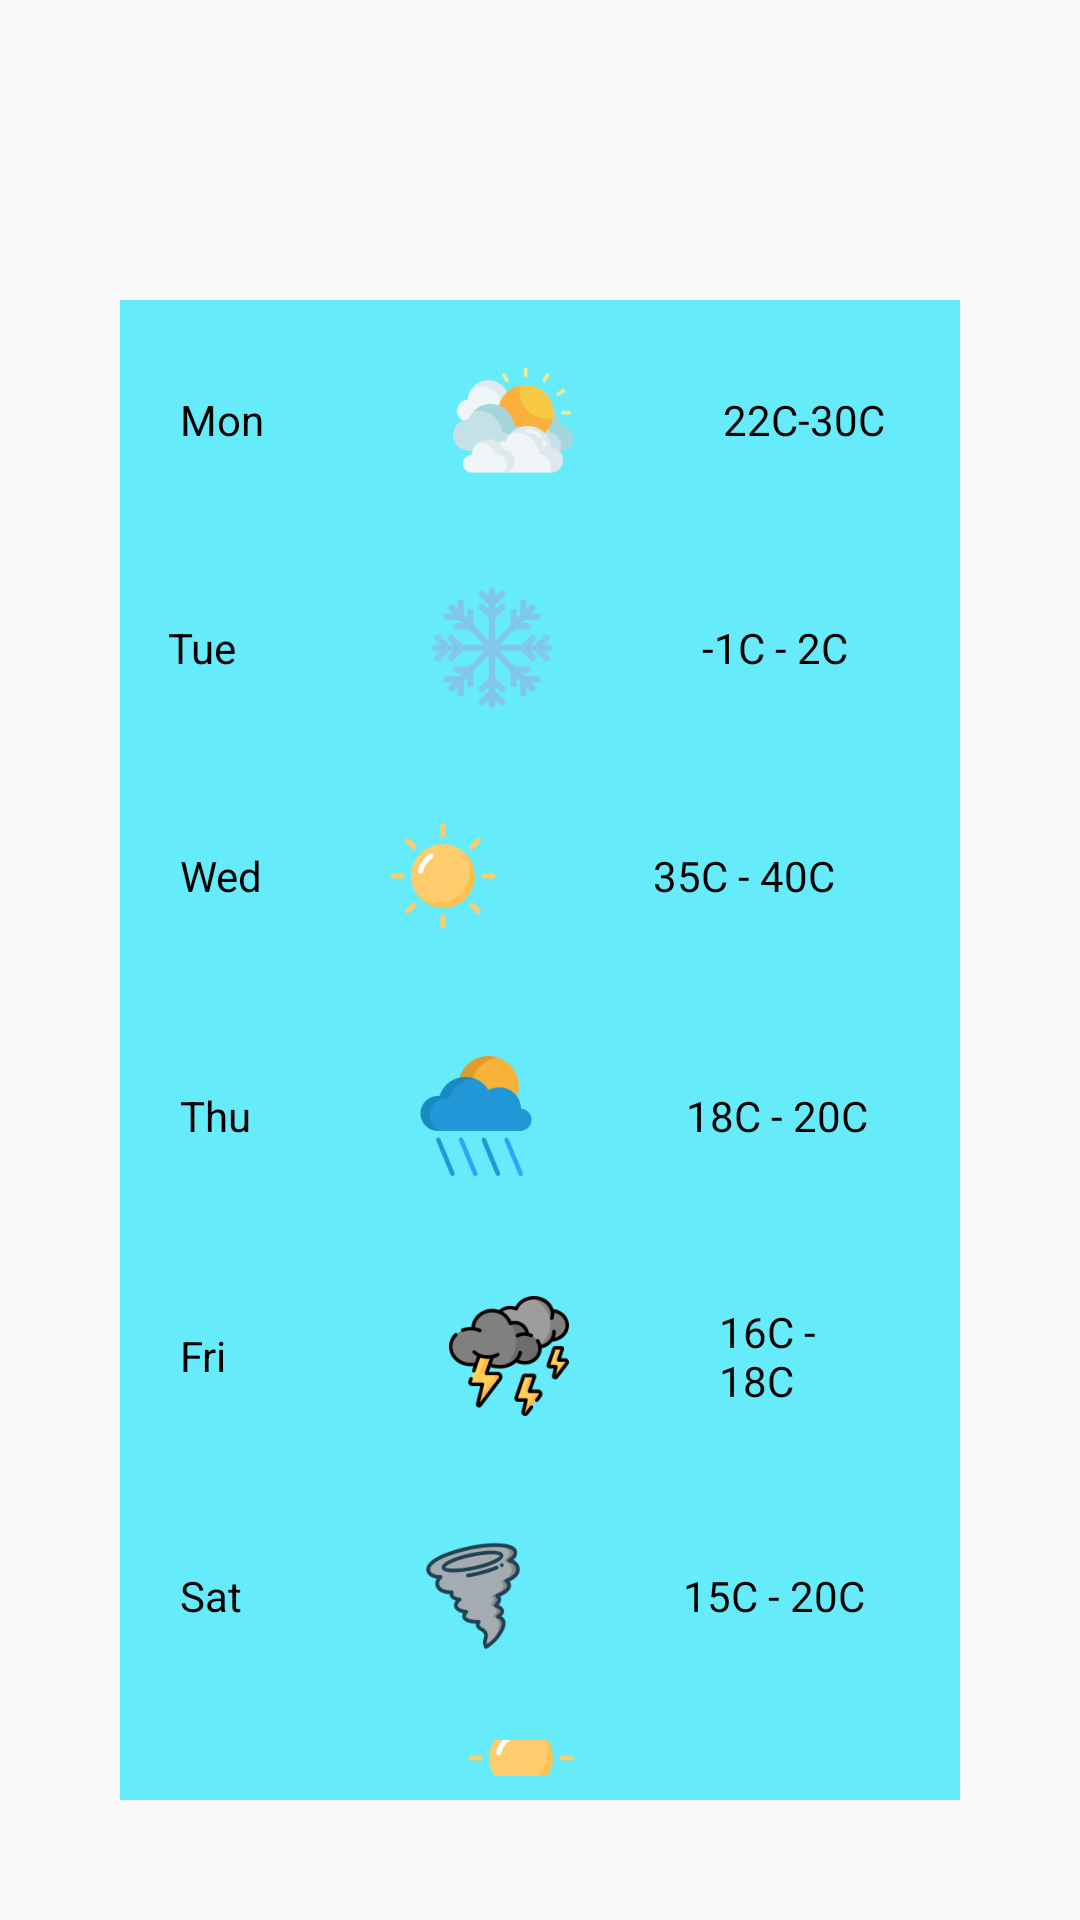

Named icons in this screenshot (1080px x 1920px) and their bounding boxes, [x1=x1, y1=y1, x2=x2, y2=y2]:
Cloudy: [x1=453, y1=367, x2=573, y2=473]
Rainy: [x1=420, y1=1056, x2=532, y2=1176]
Snowy: [x1=432, y1=588, x2=552, y2=708]
Thunder: [x1=449, y1=1296, x2=569, y2=1416]
Typhoon: [x1=426, y1=1543, x2=520, y2=1649]
